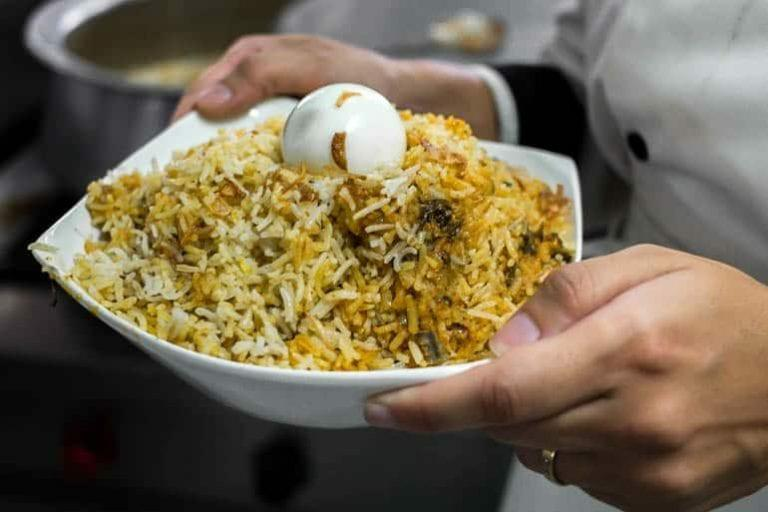Biryani: (70, 82, 574, 369)
